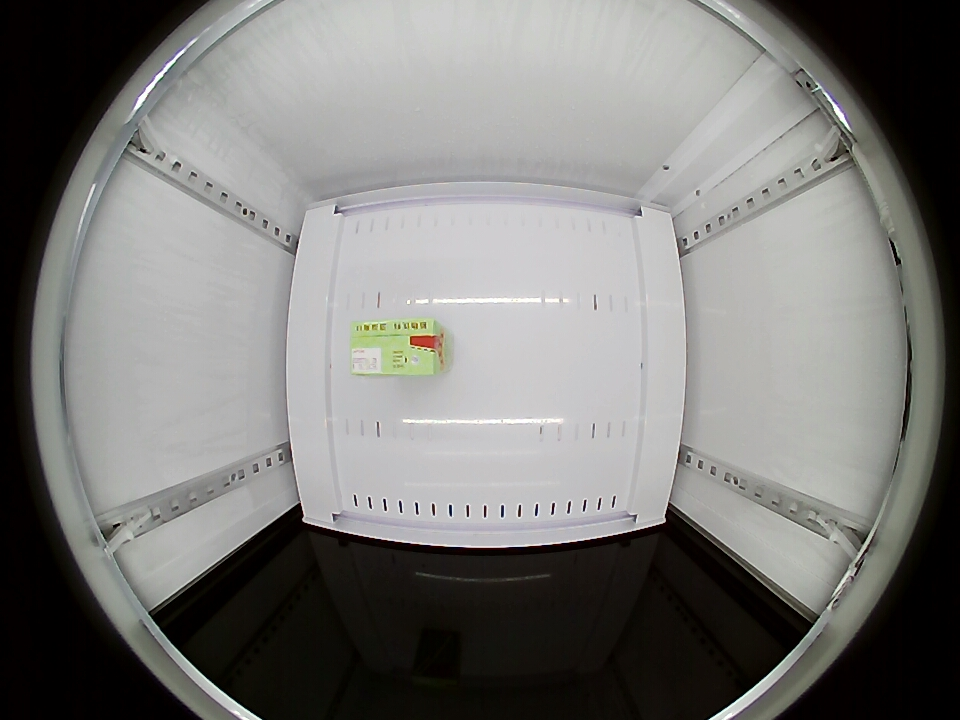wanglaoji: (351, 318, 447, 377)
